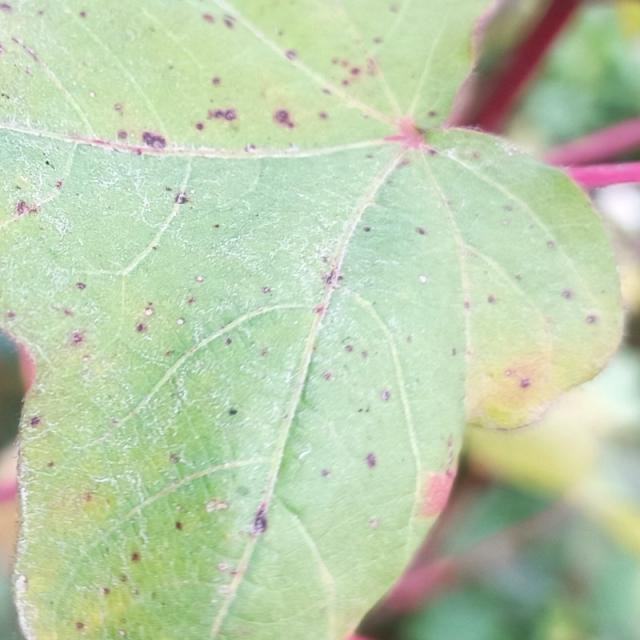Bacterial_Blight: (452, 219, 591, 413), (210, 500, 282, 634), (454, 2, 524, 117), (49, 574, 135, 638), (329, 329, 382, 375), (416, 472, 456, 520), (330, 54, 372, 89), (140, 121, 178, 159), (4, 30, 42, 66), (194, 105, 240, 134), (13, 570, 34, 629), (133, 301, 161, 337), (82, 492, 113, 522), (252, 503, 270, 534), (14, 199, 39, 218), (273, 109, 295, 129), (322, 268, 341, 287), (411, 123, 433, 139), (205, 498, 228, 513), (14, 174, 32, 191), (15, 573, 28, 595), (70, 329, 86, 344), (174, 192, 190, 205), (365, 452, 377, 468), (235, 485, 250, 497), (222, 16, 235, 29), (144, 302, 155, 316), (202, 13, 215, 24), (285, 49, 297, 60), (135, 322, 147, 333), (368, 517, 379, 529), (219, 585, 232, 595), (117, 129, 128, 140), (30, 415, 41, 426), (322, 370, 333, 381), (169, 453, 180, 464), (298, 449, 309, 460), (380, 390, 390, 402), (217, 562, 229, 572), (313, 305, 324, 315), (561, 289, 572, 299), (0, 2, 11, 12), (288, 142, 299, 152), (75, 281, 87, 290), (487, 294, 497, 304), (130, 552, 140, 562), (415, 227, 426, 236), (63, 307, 74, 316), (245, 143, 256, 152), (211, 76, 221, 85), (318, 111, 328, 120), (83, 492, 92, 502), (186, 295, 196, 304), (321, 468, 331, 477), (6, 310, 16, 319), (546, 240, 556, 249), (75, 621, 85, 630), (44, 160, 54, 169), (228, 407, 238, 416), (502, 204, 513, 212), (427, 148, 438, 156), (195, 122, 204, 131), (55, 180, 64, 189), (114, 103, 123, 112), (344, 344, 353, 353), (418, 275, 427, 284), (175, 521, 183, 531), (321, 88, 331, 96), (261, 286, 271, 294), (427, 110, 437, 118), (229, 569, 239, 577), (260, 348, 268, 357), (373, 36, 382, 44), (82, 355, 91, 363), (1, 92, 10, 100), (102, 587, 110, 595), (341, 79, 349, 87), (224, 337, 232, 345), (515, 274, 523, 282), (196, 275, 204, 283), (176, 318, 184, 326), (463, 301, 470, 310), (79, 10, 86, 19), (501, 219, 510, 226), (363, 226, 371, 233), (46, 461, 54, 468), (111, 418, 119, 425), (504, 370, 512, 377), (365, 153, 374, 159), (406, 335, 412, 344), (89, 91, 96, 98), (175, 504, 182, 511), (213, 223, 220, 229), (165, 186, 172, 192), (452, 348, 457, 356), (152, 245, 158, 251), (190, 189, 196, 195)
Cotton: (0, 0, 622, 639)
